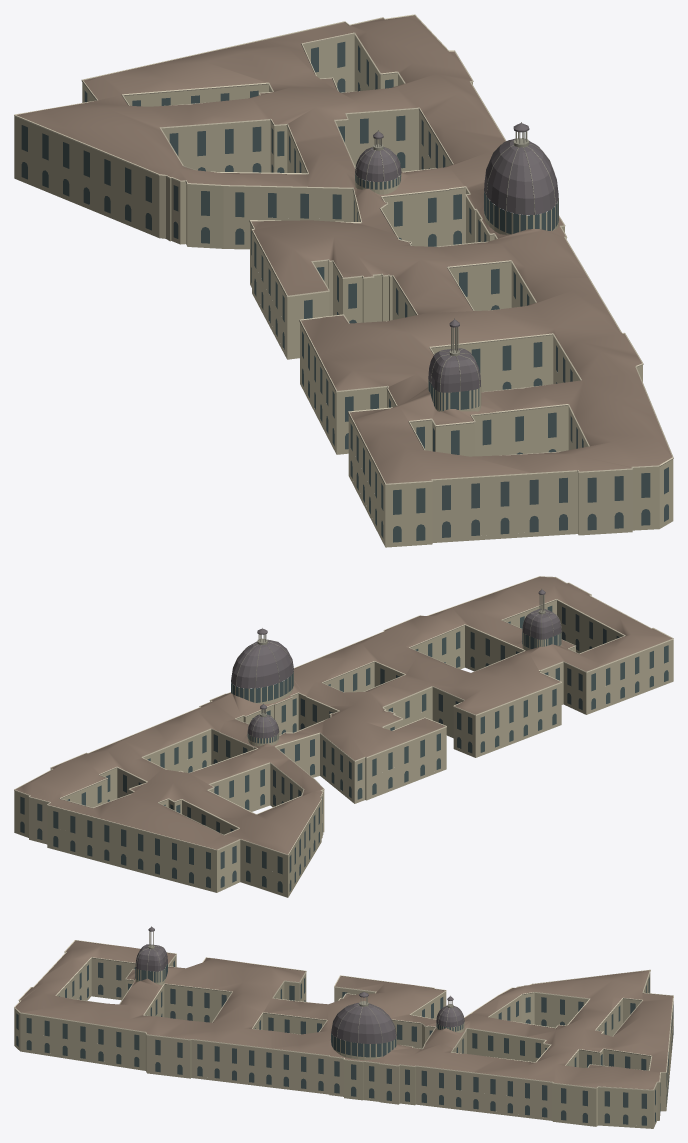
Rendered from grand-hotel-dieu-lyon-far.glb.
3 renders of one model, top to bottom at view 1: azimuth 30°, elevation 25°; view 2: azimuth 150°, elevation 25°; view 3: azimuth 270°, elevation 25°, orthographic. The views are drawn at different scales.
Parts seen in each view (by area): view 1: grand-hotel-dieu-lyon-0-roof, grand-hotel-dieu-lyon-0-stone, grand-hotel-dieu-lyon-0-glass, grand-hotel-dieu-lyon-0-frame, grand-hotel-dieu-lyon-0-slate, grand-hotel-dieu-lyon-0-metal; view 2: grand-hotel-dieu-lyon-0-roof, grand-hotel-dieu-lyon-0-stone, grand-hotel-dieu-lyon-0-glass, grand-hotel-dieu-lyon-0-frame, grand-hotel-dieu-lyon-0-slate, grand-hotel-dieu-lyon-0-metal; view 3: grand-hotel-dieu-lyon-0-stone, grand-hotel-dieu-lyon-0-roof, grand-hotel-dieu-lyon-0-glass, grand-hotel-dieu-lyon-0-frame, grand-hotel-dieu-lyon-0-slate, grand-hotel-dieu-lyon-0-metal.
Part boxes in pixels (bbox=[...]): grand-hotel-dieu-lyon-0-roof: bbox=[16, 15, 672, 483]; grand-hotel-dieu-lyon-0-stone: bbox=[14, 34, 673, 547]; grand-hotel-dieu-lyon-0-glass: bbox=[21, 42, 668, 542]; grand-hotel-dieu-lyon-0-frame: bbox=[14, 14, 673, 484]; grand-hotel-dieu-lyon-0-slate: bbox=[355, 123, 558, 392]; grand-hotel-dieu-lyon-0-metal: bbox=[355, 122, 555, 391]; grand-hotel-dieu-lyon-0-roof: bbox=[15, 576, 671, 854]; grand-hotel-dieu-lyon-0-stone: bbox=[14, 600, 673, 897]; grand-hotel-dieu-lyon-0-glass: bbox=[20, 606, 668, 892]; grand-hotel-dieu-lyon-0-frame: bbox=[14, 576, 673, 855]; grand-hotel-dieu-lyon-0-slate: bbox=[231, 589, 561, 738]; grand-hotel-dieu-lyon-0-metal: bbox=[232, 589, 561, 737]; grand-hotel-dieu-lyon-0-stone: bbox=[14, 955, 673, 1128]; grand-hotel-dieu-lyon-0-roof: bbox=[15, 940, 672, 1089]; grand-hotel-dieu-lyon-0-glass: bbox=[16, 960, 673, 1125]; grand-hotel-dieu-lyon-0-frame: bbox=[14, 940, 673, 1090]; grand-hotel-dieu-lyon-0-slate: bbox=[135, 927, 464, 1043]; grand-hotel-dieu-lyon-0-metal: bbox=[136, 926, 464, 1042].
Bounding box in the file's own units: 150 × 46 × 278.
